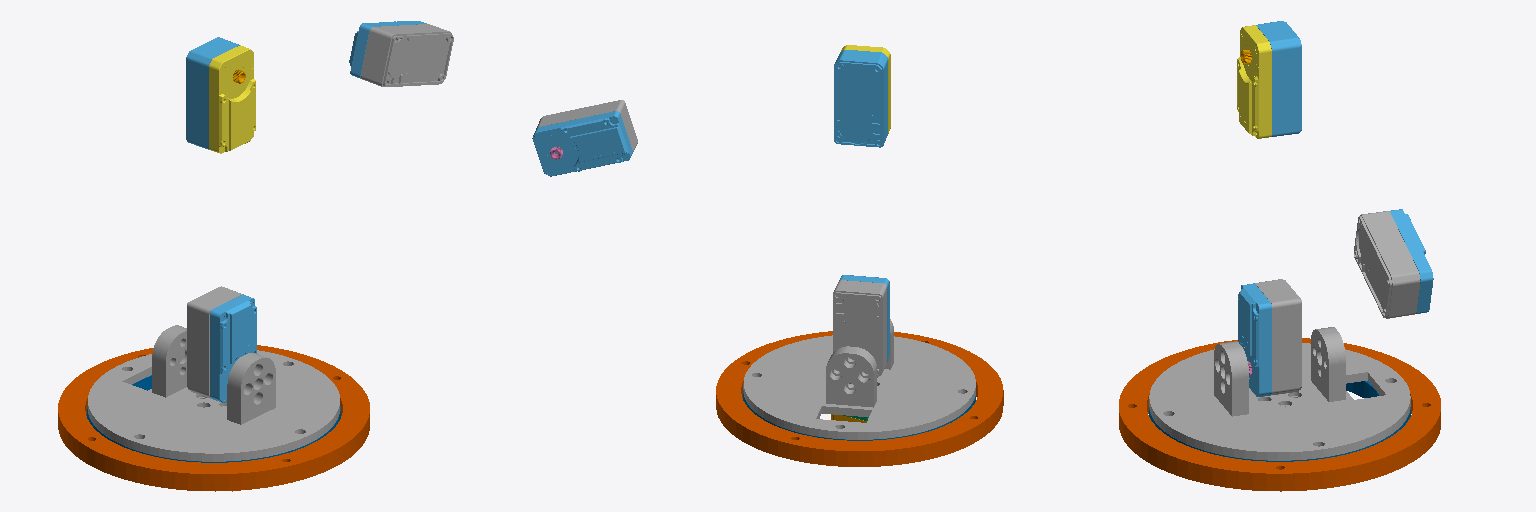
The robot description file, URDF, robot "onshape_robot":
<?xml version="1.0"?>
<robot name="onshape_robot">
  <link name="base_link"/>
  <link name="Part_1_3">
    <visual>
      <origin xyz="0 0 0" rpy="0 0 0"/>
      <geometry>
        <mesh filename="meshes/Part_1_3.stl"/>
      </geometry>
    </visual>
    <collision>
      <origin xyz="0 0 0" rpy="0 0 0"/>
      <geometry>
        <mesh filename="meshes/Part_1_3.stl"/>
      </geometry>
    </collision>
  </link>
  <joint name="Part_1_3_joint" type="fixed">
    <parent link="base_link"/>
    <child link="Part_1_3"/>
    <origin xyz="-0.050504 -0.01132 -0.124523" rpy="0 0 0.007469"/>
  </joint>
  <link name="Part_1_8">
    <visual>
      <origin xyz="0 0 0" rpy="0 0 0"/>
      <geometry>
        <mesh filename="meshes/Part_1_8.stl"/>
      </geometry>
    </visual>
    <collision>
      <origin xyz="0 0 0" rpy="0 0 0"/>
      <geometry>
        <mesh filename="meshes/Part_1_8.stl"/>
      </geometry>
    </collision>
  </link>
  <joint name="Part_1_8_joint" type="fixed">
    <parent link="base_link"/>
    <child link="Part_1_8"/>
    <origin xyz="-0.050498 -0.01207 -0.154023" rpy="0 0 0.007469"/>
  </joint>
  <link name="Part_1_1">
    <visual>
      <origin xyz="0 0 0" rpy="0 0 0"/>
      <geometry>
        <mesh filename="meshes/Part_1_1.stl"/>
      </geometry>
    </visual>
    <collision>
      <origin xyz="0 0 0" rpy="0 0 0"/>
      <geometry>
        <mesh filename="meshes/Part_1_1.stl"/>
      </geometry>
    </collision>
  </link>
  <joint name="Part_1_1_joint" type="fixed">
    <parent link="base_link"/>
    <child link="Part_1_1"/>
    <origin xyz="0.079209 0.061992 -0.0227" rpy="3.121406 0 -1.233812"/>
  </joint>
  <link name="PCB_CHAZUO_92_1">
    <visual>
      <origin xyz="0 0 0" rpy="0 0 0"/>
      <geometry>
        <mesh filename="meshes/PCB_CHAZUO_92_1.stl"/>
      </geometry>
    </visual>
    <collision>
      <origin xyz="0 0 0" rpy="0 0 0"/>
      <geometry>
        <mesh filename="meshes/PCB_CHAZUO_92_1.stl"/>
      </geometry>
    </collision>
  </link>
  <joint name="PCB_CHAZUO_92_1_joint" type="fixed">
    <parent link="base_link"/>
    <child link="PCB_CHAZUO_92_1"/>
    <origin xyz="-0.050308 -0.03757 -0.122423" rpy="1.570796 0 -1.563327"/>
  </joint>
  <link name="v2_1">
    <visual>
      <origin xyz="0 0 0" rpy="0 0 0"/>
      <geometry>
        <mesh filename="meshes/v2_1_2.stl"/>
      </geometry>
    </visual>
    <collision>
      <origin xyz="0 0 0" rpy="0 0 0"/>
      <geometry>
        <mesh filename="meshes/v2_1_2.stl"/>
      </geometry>
    </collision>
  </link>
  <joint name="v2_1_joint" type="fixed">
    <parent link="base_link"/>
    <child link="v2_1"/>
    <origin xyz="-0.047639 -0.002488 -0.140123" rpy="1.570796 0 -1.860757"/>
  </joint>
  <link name="v2_1_2">
    <visual>
      <origin xyz="0 0 0" rpy="0 0 0"/>
      <geometry>
        <mesh filename="meshes/v2_1.stl"/>
      </geometry>
    </visual>
    <collision>
      <origin xyz="0 0 0" rpy="0 0 0"/>
      <geometry>
        <mesh filename="meshes/v2_1.stl"/>
      </geometry>
    </collision>
  </link>
  <joint name="v2_1_2_joint" type="fixed">
    <parent link="base_link"/>
    <child link="v2_1_2"/>
    <origin xyz="-0.059879 -0.008606 -0.171873" rpy="-1.570796 0 -0.353725"/>
  </joint>
  <link name="GE_27_1">
    <visual>
      <origin xyz="0 0 0" rpy="0 0 0"/>
      <geometry>
        <mesh filename="meshes/GE_27_1.stl"/>
      </geometry>
    </visual>
    <collision>
      <origin xyz="0 0 0" rpy="0 0 0"/>
      <geometry>
        <mesh filename="meshes/GE_27_1.stl"/>
      </geometry>
    </collision>
  </link>
  <joint name="GE_27_1_joint" type="fixed">
    <parent link="base_link"/>
    <child link="GE_27_1"/>
    <origin xyz="-0.050498 -0.01207 -0.128423" rpy="3.141593 0 -1.563327"/>
  </joint>
  <link name="ZK_122_1">
    <visual>
      <origin xyz="0 0 0" rpy="0 0 0"/>
      <geometry>
        <mesh filename="meshes/ZK_122_1.stl"/>
      </geometry>
    </visual>
    <collision>
      <origin xyz="0 0 0" rpy="0 0 0"/>
      <geometry>
        <mesh filename="meshes/ZK_122_1.stl"/>
      </geometry>
    </collision>
  </link>
  <joint name="ZK_122_1_joint" type="fixed">
    <parent link="base_link"/>
    <child link="ZK_122_1"/>
    <origin xyz="-0.050308 -0.03757 -0.122423" rpy="1.570796 0 -1.563327"/>
  </joint>
  <link name="MOTOR_1723_3_1">
    <visual>
      <origin xyz="0 0 0" rpy="0 0 0"/>
      <geometry>
        <mesh filename="meshes/MOTOR_1723_3_1.stl"/>
      </geometry>
    </visual>
    <collision>
      <origin xyz="0 0 0" rpy="0 0 0"/>
      <geometry>
        <mesh filename="meshes/MOTOR_1723_3_1.stl"/>
      </geometry>
    </collision>
  </link>
  <joint name="MOTOR_1723_3_1_joint" type="fixed">
    <parent link="base_link"/>
    <child link="MOTOR_1723_3_1"/>
    <origin xyz="-0.049058 -0.03756 -0.145273" rpy="1.570796 0 0.007469"/>
  </joint>
  <link name="SG_ZIJI_15_1">
    <visual>
      <origin xyz="0 0 0" rpy="0 0 0"/>
      <geometry>
        <mesh filename="meshes/SG_ZIJI_15_1.stl"/>
      </geometry>
    </visual>
    <collision>
      <origin xyz="0 0 0" rpy="0 0 0"/>
      <geometry>
        <mesh filename="meshes/SG_ZIJI_15_1.stl"/>
      </geometry>
    </collision>
  </link>
  <joint name="SG_ZIJI_15_1_joint" type="fixed">
    <parent link="base_link"/>
    <child link="SG_ZIJI_15_1"/>
    <origin xyz="-0.050308 -0.03757 -0.122423" rpy="1.570796 0 -1.563327"/>
  </joint>
  <link name="XG_ZIJI_16_1">
    <visual>
      <origin xyz="0 0 0" rpy="0 0 0"/>
      <geometry>
        <mesh filename="meshes/XG_ZIJI_16_1.stl"/>
      </geometry>
    </visual>
    <collision>
      <origin xyz="0 0 0" rpy="0 0 0"/>
      <geometry>
        <mesh filename="meshes/XG_ZIJI_16_1.stl"/>
      </geometry>
    </collision>
  </link>
  <joint name="XG_ZIJI_16_1_joint" type="fixed">
    <parent link="base_link"/>
    <child link="XG_ZIJI_16_1"/>
    <origin xyz="-0.050308 -0.03757 -0.122423" rpy="1.570796 0 -1.563327"/>
  </joint>
  <link name="Part_2_2">
    <visual>
      <origin xyz="0 0 0" rpy="0 0 0"/>
      <geometry>
        <mesh filename="meshes/Part_2_2.stl"/>
      </geometry>
    </visual>
    <collision>
      <origin xyz="0 0 0" rpy="0 0 0"/>
      <geometry>
        <mesh filename="meshes/Part_2_2.stl"/>
      </geometry>
    </collision>
  </link>
  <joint name="Part_2_2_joint" type="fixed">
    <parent link="base_link"/>
    <child link="Part_2_2"/>
    <origin xyz="-0.050504 -0.01132 -0.121523" rpy="0 0 0.336985"/>
  </joint>
  <link name="Part_1_2">
    <visual>
      <origin xyz="0 0 0" rpy="0 0 0"/>
      <geometry>
        <mesh filename="meshes/Part_1_2_3.stl"/>
      </geometry>
    </visual>
    <collision>
      <origin xyz="0 0 0" rpy="0 0 0"/>
      <geometry>
        <mesh filename="meshes/Part_1_2_3.stl"/>
      </geometry>
    </collision>
  </link>
  <joint name="Part_1_2_joint" type="fixed">
    <parent link="base_link"/>
    <child link="Part_1_2"/>
    <origin xyz="-0.050504 -0.01132 -0.121523" rpy="0 0 0.007469"/>
  </joint>
  <link name="Part_1_2_2">
    <visual>
      <origin xyz="0 0 0" rpy="0 0 0"/>
      <geometry>
        <mesh filename="meshes/Part_1_2_2.stl"/>
      </geometry>
    </visual>
    <collision>
      <origin xyz="0 0 0" rpy="0 0 0"/>
      <geometry>
        <mesh filename="meshes/Part_1_2_2.stl"/>
      </geometry>
    </collision>
  </link>
  <joint name="Part_1_2_2_joint" type="fixed">
    <parent link="base_link"/>
    <child link="Part_1_2_2"/>
    <origin xyz="0.08769 0.037784 -0.0227" rpy="-0.020186 0 -1.233812"/>
  </joint>
  <link name="Part_1_1_2">
    <visual>
      <origin xyz="0 0 0" rpy="0 0 0"/>
      <geometry>
        <mesh filename="meshes/Part_1_1_3.stl"/>
      </geometry>
    </visual>
    <collision>
      <origin xyz="0 0 0" rpy="0 0 0"/>
      <geometry>
        <mesh filename="meshes/Part_1_1_3.stl"/>
      </geometry>
    </collision>
  </link>
  <joint name="Part_1_1_2_joint" type="fixed">
    <parent link="base_link"/>
    <child link="Part_1_1_2"/>
    <origin xyz="-0.050504 -0.01132 -0.113023" rpy="0 0 1.907781"/>
  </joint>
  <link name="Part_1_3_2">
    <visual>
      <origin xyz="0 0 0" rpy="0 0 0"/>
      <geometry>
        <mesh filename="meshes/Part_1_2.stl"/>
      </geometry>
    </visual>
    <collision>
      <origin xyz="0 0 0" rpy="0 0 0"/>
      <geometry>
        <mesh filename="meshes/Part_1_2.stl"/>
      </geometry>
    </collision>
  </link>
  <joint name="Part_1_3_2_joint" type="fixed">
    <parent link="base_link"/>
    <child link="Part_1_3_2"/>
    <origin xyz="-0.050955 -0.010789 -0.056023" rpy="3.141593 0 -1.233812"/>
  </joint>
  <link name="Part_1_1_3">
    <visual>
      <origin xyz="0 0 0" rpy="0 0 0"/>
      <geometry>
        <mesh filename="meshes/Part_1_1_2.stl"/>
      </geometry>
    </visual>
    <collision>
      <origin xyz="0 0 0" rpy="0 0 0"/>
      <geometry>
        <mesh filename="meshes/Part_1_1_2.stl"/>
      </geometry>
    </collision>
  </link>
  <joint name="Part_1_1_3_joint" type="fixed">
    <parent link="base_link"/>
    <child link="Part_1_1_3"/>
    <origin xyz="-0.03727 -0.005995 -0.018523" rpy="0 0 -1.233812"/>
  </joint>
  <link name="Part_1_2_3">
    <visual>
      <origin xyz="0 0 0" rpy="0 0 0"/>
      <geometry>
        <mesh filename="meshes/Part_1_2.stl"/>
      </geometry>
    </visual>
    <collision>
      <origin xyz="0 0 0" rpy="0 0 0"/>
      <geometry>
        <mesh filename="meshes/Part_1_2.stl"/>
      </geometry>
    </collision>
  </link>
  <joint name="Part_1_2_3_joint" type="fixed">
    <parent link="base_link"/>
    <child link="Part_1_2_3"/>
    <origin xyz="-0.050955 -0.010789 0.018977" rpy="0 0 -1.233812"/>
  </joint>
  <link name="PCB_CHAZUO_92_1_2">
    <visual>
      <origin xyz="0 0 0" rpy="0 0 0"/>
      <geometry>
        <mesh filename="meshes/PCB_CHAZUO_92_1.stl"/>
      </geometry>
    </visual>
    <collision>
      <origin xyz="0 0 0" rpy="0 0 0"/>
      <geometry>
        <mesh filename="meshes/PCB_CHAZUO_92_1.stl"/>
      </geometry>
    </collision>
  </link>
  <joint name="PCB_CHAZUO_92_1_2_joint" type="fixed">
    <parent link="base_link"/>
    <child link="PCB_CHAZUO_92_1_2"/>
    <origin xyz="0.062297 0.038636 0.016935" rpy="3.141593 -0.304321 -2.804608"/>
  </joint>
  <link name="v2_1_3">
    <visual>
      <origin xyz="0 0 0" rpy="0 0 0"/>
      <geometry>
        <mesh filename="meshes/v2_1_2.stl"/>
      </geometry>
    </visual>
    <collision>
      <origin xyz="0 0 0" rpy="0 0 0"/>
      <geometry>
        <mesh filename="meshes/v2_1_2.stl"/>
      </geometry>
    </collision>
  </link>
  <joint name="v2_1_3_joint" type="fixed">
    <parent link="base_link"/>
    <child link="v2_1_3"/>
    <origin xyz="0.100545 0.033282 0.009092" rpy="3.141593 -0.020186 -2.804608"/>
  </joint>
  <link name="v2_1_4">
    <visual>
      <origin xyz="0 0 0" rpy="0 0 0"/>
      <geometry>
        <mesh filename="meshes/v2_1.stl"/>
      </geometry>
    </visual>
    <collision>
      <origin xyz="0 0 0" rpy="0 0 0"/>
      <geometry>
        <mesh filename="meshes/v2_1.stl"/>
      </geometry>
    </collision>
  </link>
  <joint name="v2_1_4_joint" type="fixed">
    <parent link="base_link"/>
    <child link="v2_1_4"/>
    <origin xyz="0.092467 -0.003191 0.011784" rpy="-3.141593 0.251669 0.336985"/>
  </joint>
  <link name="GE_27_1_2">
    <visual>
      <origin xyz="0 0 0" rpy="0 0 0"/>
      <geometry>
        <mesh filename="meshes/GE_27_1.stl"/>
      </geometry>
    </visual>
    <collision>
      <origin xyz="0 0 0" rpy="0 0 0"/>
      <geometry>
        <mesh filename="meshes/GE_27_1.stl"/>
      </geometry>
    </collision>
  </link>
  <joint name="GE_27_1_2_joint" type="fixed">
    <parent link="base_link"/>
    <child link="GE_27_1_2"/>
    <origin xyz="0.087241 0.041018 0.009294" rpy="-1.570796 -0.304321 -2.804608"/>
  </joint>
  <link name="ZK_122_1_2">
    <visual>
      <origin xyz="0 0 0" rpy="0 0 0"/>
      <geometry>
        <mesh filename="meshes/ZK_122_1.stl"/>
      </geometry>
    </visual>
    <collision>
      <origin xyz="0 0 0" rpy="0 0 0"/>
      <geometry>
        <mesh filename="meshes/ZK_122_1.stl"/>
      </geometry>
    </collision>
  </link>
  <joint name="ZK_122_1_2_joint" type="fixed">
    <parent link="base_link"/>
    <child link="ZK_122_1_2"/>
    <origin xyz="0.062297 0.038636 0.016935" rpy="3.141593 -0.304321 -2.804608"/>
  </joint>
  <link name="MOTOR_1723_3_1_2">
    <visual>
      <origin xyz="0 0 0" rpy="0 0 0"/>
      <geometry>
        <mesh filename="meshes/MOTOR_1723_3_1.stl"/>
      </geometry>
    </visual>
    <collision>
      <origin xyz="0 0 0" rpy="0 0 0"/>
      <geometry>
        <mesh filename="meshes/MOTOR_1723_3_1.stl"/>
      </geometry>
    </collision>
  </link>
  <joint name="MOTOR_1723_3_1_2_joint" type="fixed">
    <parent link="base_link"/>
    <child link="MOTOR_1723_3_1_2"/>
    <origin xyz="0.070206 0.017195 0.018127" rpy="0 -1.266475 0.336985"/>
  </joint>
  <link name="SG_ZIJI_15_1_2">
    <visual>
      <origin xyz="0 0 0" rpy="0 0 0"/>
      <geometry>
        <mesh filename="meshes/SG_ZIJI_15_1.stl"/>
      </geometry>
    </visual>
    <collision>
      <origin xyz="0 0 0" rpy="0 0 0"/>
      <geometry>
        <mesh filename="meshes/SG_ZIJI_15_1.stl"/>
      </geometry>
    </collision>
  </link>
  <joint name="SG_ZIJI_15_1_2_joint" type="fixed">
    <parent link="base_link"/>
    <child link="SG_ZIJI_15_1_2"/>
    <origin xyz="0.062297 0.038636 0.016935" rpy="3.141593 -0.304321 -2.804608"/>
  </joint>
  <link name="XG_ZIJI_16_1_2">
    <visual>
      <origin xyz="0 0 0" rpy="0 0 0"/>
      <geometry>
        <mesh filename="meshes/XG_ZIJI_16_1.stl"/>
      </geometry>
    </visual>
    <collision>
      <origin xyz="0 0 0" rpy="0 0 0"/>
      <geometry>
        <mesh filename="meshes/XG_ZIJI_16_1.stl"/>
      </geometry>
    </collision>
  </link>
  <joint name="XG_ZIJI_16_1_2_joint" type="fixed">
    <parent link="base_link"/>
    <child link="XG_ZIJI_16_1_2"/>
    <origin xyz="0.062297 0.038636 0.016935" rpy="3.141593 -0.304321 -2.804608"/>
  </joint>
  <link name="PCB_CHAZUO_92_1_3">
    <visual>
      <origin xyz="0 0 0" rpy="0 0 0"/>
      <geometry>
        <mesh filename="meshes/PCB_CHAZUO_92_1.stl"/>
      </geometry>
    </visual>
    <collision>
      <origin xyz="0 0 0" rpy="0 0 0"/>
      <geometry>
        <mesh filename="meshes/PCB_CHAZUO_92_1.stl"/>
      </geometry>
    </collision>
  </link>
  <joint name="PCB_CHAZUO_92_1_3_joint" type="fixed">
    <parent link="base_link"/>
    <child link="PCB_CHAZUO_92_1_3"/>
    <origin xyz="-0.047544 -0.019767 -0.067523" rpy="-2.804608 -1.570796 0"/>
  </joint>
  <link name="v2_1_5">
    <visual>
      <origin xyz="0 0 0" rpy="0 0 0"/>
      <geometry>
        <mesh filename="meshes/v2_1_2.stl"/>
      </geometry>
    </visual>
    <collision>
      <origin xyz="0 0 0" rpy="0 0 0"/>
      <geometry>
        <mesh filename="meshes/v2_1_2.stl"/>
      </geometry>
    </collision>
  </link>
  <joint name="v2_1_5_joint" type="fixed">
    <parent link="base_link"/>
    <child link="v2_1_5"/>
    <origin xyz="-0.043959 0.000244 -0.093023" rpy="0 0 -2.804608"/>
  </joint>
  <link name="v2_1_6">
    <visual>
      <origin xyz="0 0 0" rpy="0 0 0"/>
      <geometry>
        <mesh filename="meshes/v2_1.stl"/>
      </geometry>
    </visual>
    <collision>
      <origin xyz="0 0 0" rpy="0 0 0"/>
      <geometry>
        <mesh filename="meshes/v2_1.stl"/>
      </geometry>
    </collision>
  </link>
  <joint name="v2_1_6_joint" type="fixed">
    <parent link="base_link"/>
    <child link="v2_1_6"/>
    <origin xyz="-0.073286 0.023612 -0.092034" rpy="0 0.098974 0.336985"/>
  </joint>
  <link name="GE_27_1_3">
    <visual>
      <origin xyz="0 0 0" rpy="0 0 0"/>
      <geometry>
        <mesh filename="meshes/GE_27_1.stl"/>
      </geometry>
    </visual>
    <collision>
      <origin xyz="0 0 0" rpy="0 0 0"/>
      <geometry>
        <mesh filename="meshes/GE_27_1.stl"/>
      </geometry>
    </collision>
  </link>
  <joint name="GE_27_1_3_joint" type="fixed">
    <parent link="base_link"/>
    <child link="GE_27_1_3"/>
    <origin xyz="-0.049528 -0.014104 -0.093023" rpy="-1.233812 -1.570796 0"/>
  </joint>
  <link name="ZK_122_1_3">
    <visual>
      <origin xyz="0 0 0" rpy="0 0 0"/>
      <geometry>
        <mesh filename="meshes/ZK_122_1.stl"/>
      </geometry>
    </visual>
    <collision>
      <origin xyz="0 0 0" rpy="0 0 0"/>
      <geometry>
        <mesh filename="meshes/ZK_122_1.stl"/>
      </geometry>
    </collision>
  </link>
  <joint name="ZK_122_1_3_joint" type="fixed">
    <parent link="base_link"/>
    <child link="ZK_122_1_3"/>
    <origin xyz="-0.047544 -0.019767 -0.067523" rpy="-2.804608 -1.570796 0"/>
  </joint>
  <link name="MOTOR_1723_3_1_3">
    <visual>
      <origin xyz="0 0 0" rpy="0 0 0"/>
      <geometry>
        <mesh filename="meshes/MOTOR_1723_3_1.stl"/>
      </geometry>
    </visual>
    <collision>
      <origin xyz="0 0 0" rpy="0 0 0"/>
      <geometry>
        <mesh filename="meshes/MOTOR_1723_3_1.stl"/>
      </geometry>
    </collision>
  </link>
  <joint name="MOTOR_1723_3_1_3_joint" type="fixed">
    <parent link="base_link"/>
    <child link="MOTOR_1723_3_1_3"/>
    <origin xyz="-0.056279 0.001385 -0.067523" rpy="0 0 -2.804608"/>
  </joint>
  <link name="SG_ZIJI_15_1_3">
    <visual>
      <origin xyz="0 0 0" rpy="0 0 0"/>
      <geometry>
        <mesh filename="meshes/SG_ZIJI_15_1.stl"/>
      </geometry>
    </visual>
    <collision>
      <origin xyz="0 0 0" rpy="0 0 0"/>
      <geometry>
        <mesh filename="meshes/SG_ZIJI_15_1.stl"/>
      </geometry>
    </collision>
  </link>
  <joint name="SG_ZIJI_15_1_3_joint" type="fixed">
    <parent link="base_link"/>
    <child link="SG_ZIJI_15_1_3"/>
    <origin xyz="-0.047544 -0.019767 -0.067523" rpy="-2.804608 -1.570796 0"/>
  </joint>
  <link name="XG_ZIJI_16_1_3">
    <visual>
      <origin xyz="0 0 0" rpy="0 0 0"/>
      <geometry>
        <mesh filename="meshes/XG_ZIJI_16_1.stl"/>
      </geometry>
    </visual>
    <collision>
      <origin xyz="0 0 0" rpy="0 0 0"/>
      <geometry>
        <mesh filename="meshes/XG_ZIJI_16_1.stl"/>
      </geometry>
    </collision>
  </link>
  <joint name="XG_ZIJI_16_1_3_joint" type="fixed">
    <parent link="base_link"/>
    <child link="XG_ZIJI_16_1_3"/>
    <origin xyz="-0.047544 -0.019767 -0.067523" rpy="-2.804608 -1.570796 0"/>
  </joint>
  <link name="Part_1_1_4">
    <visual>
      <origin xyz="0 0 0" rpy="0 0 0"/>
      <geometry>
        <mesh filename="meshes/Part_1_1_4.stl"/>
      </geometry>
    </visual>
    <collision>
      <origin xyz="0 0 0" rpy="0 0 0"/>
      <geometry>
        <mesh filename="meshes/Part_1_1_4.stl"/>
      </geometry>
    </collision>
  </link>
  <joint name="Part_1_1_4_joint" type="fixed">
    <parent link="base_link"/>
    <child link="Part_1_1_4"/>
    <origin xyz="0.019574 0.013496 0.017273" rpy="0.304321 0 1.907781"/>
  </joint>
  <link name="Part_1_2_4">
    <visual>
      <origin xyz="0 0 0" rpy="0 0 0"/>
      <geometry>
        <mesh filename="meshes/Part_1_2.stl"/>
      </geometry>
    </visual>
    <collision>
      <origin xyz="0 0 0" rpy="0 0 0"/>
      <geometry>
        <mesh filename="meshes/Part_1_2.stl"/>
      </geometry>
    </collision>
  </link>
  <joint name="Part_1_2_4_joint" type="fixed">
    <parent link="base_link"/>
    <child link="Part_1_2_4"/>
    <origin xyz="0.055188 0.025973 0.020619" rpy="1.875118 0 1.907781"/>
  </joint>
  <link name="PCB_CHAZUO_92_1_4">
    <visual>
      <origin xyz="0 0 0" rpy="0 0 0"/>
      <geometry>
        <mesh filename="meshes/PCB_CHAZUO_92_1.stl"/>
      </geometry>
    </visual>
    <collision>
      <origin xyz="0 0 0" rpy="0 0 0"/>
      <geometry>
        <mesh filename="meshes/PCB_CHAZUO_92_1.stl"/>
      </geometry>
    </collision>
  </link>
  <joint name="PCB_CHAZUO_92_1_4_joint" type="fixed">
    <parent link="base_link"/>
    <child link="PCB_CHAZUO_92_1_4"/>
    <origin xyz="-0.048016 -0.019932 0.030477" rpy="2.804608 1.570796 0"/>
  </joint>
  <link name="v2_1_7">
    <visual>
      <origin xyz="0 0 0" rpy="0 0 0"/>
      <geometry>
        <mesh filename="meshes/v2_1_2.stl"/>
      </geometry>
    </visual>
    <collision>
      <origin xyz="0 0 0" rpy="0 0 0"/>
      <geometry>
        <mesh filename="meshes/v2_1_2.stl"/>
      </geometry>
    </collision>
  </link>
  <joint name="v2_1_7_joint" type="fixed">
    <parent link="base_link"/>
    <child link="v2_1_7"/>
    <origin xyz="-0.044865 -0.000073 0.052981" rpy="0 -0.304321 -2.804608"/>
  </joint>
  <link name="v2_1_8">
    <visual>
      <origin xyz="0 0 0" rpy="0 0 0"/>
      <geometry>
        <mesh filename="meshes/v2_1.stl"/>
      </geometry>
    </visual>
    <collision>
      <origin xyz="0 0 0" rpy="0 0 0"/>
      <geometry>
        <mesh filename="meshes/v2_1.stl"/>
      </geometry>
    </collision>
  </link>
  <joint name="v2_1_8_joint" type="fixed">
    <parent link="base_link"/>
    <child link="v2_1_8"/>
    <origin xyz="-0.073762 0.023445 0.056925" rpy="0 0.09487 0.336985"/>
  </joint>
  <link name="GE_27_1_4">
    <visual>
      <origin xyz="0 0 0" rpy="0 0 0"/>
      <geometry>
        <mesh filename="meshes/GE_27_1.stl"/>
      </geometry>
    </visual>
    <collision>
      <origin xyz="0 0 0" rpy="0 0 0"/>
      <geometry>
        <mesh filename="meshes/GE_27_1.stl"/>
      </geometry>
    </collision>
  </link>
  <joint name="GE_27_1_4_joint" type="fixed">
    <parent link="base_link"/>
    <child link="GE_27_1_4"/>
    <origin xyz="-0.05 -0.01427 0.055977" rpy="-1.907781 1.570796 0"/>
  </joint>
  <link name="ZK_122_1_4">
    <visual>
      <origin xyz="0 0 0" rpy="0 0 0"/>
      <geometry>
        <mesh filename="meshes/ZK_122_1.stl"/>
      </geometry>
    </visual>
    <collision>
      <origin xyz="0 0 0" rpy="0 0 0"/>
      <geometry>
        <mesh filename="meshes/ZK_122_1.stl"/>
      </geometry>
    </collision>
  </link>
  <joint name="ZK_122_1_4_joint" type="fixed">
    <parent link="base_link"/>
    <child link="ZK_122_1_4"/>
    <origin xyz="-0.048016 -0.019932 0.030477" rpy="2.804608 1.570796 0"/>
  </joint>
  <link name="MOTOR_1723_3_1_4">
    <visual>
      <origin xyz="0 0 0" rpy="0 0 0"/>
      <geometry>
        <mesh filename="meshes/MOTOR_1723_3_1.stl"/>
      </geometry>
    </visual>
    <collision>
      <origin xyz="0 0 0" rpy="0 0 0"/>
      <geometry>
        <mesh filename="meshes/MOTOR_1723_3_1.stl"/>
      </geometry>
    </collision>
  </link>
  <joint name="MOTOR_1723_3_1_4_joint" type="fixed">
    <parent link="base_link"/>
    <child link="MOTOR_1723_3_1_4"/>
    <origin xyz="-0.054392 0.002046 0.030477" rpy="-3.141593 0 0.336985"/>
  </joint>
  <link name="SG_ZIJI_15_1_4">
    <visual>
      <origin xyz="0 0 0" rpy="0 0 0"/>
      <geometry>
        <mesh filename="meshes/SG_ZIJI_15_1.stl"/>
      </geometry>
    </visual>
    <collision>
      <origin xyz="0 0 0" rpy="0 0 0"/>
      <geometry>
        <mesh filename="meshes/SG_ZIJI_15_1.stl"/>
      </geometry>
    </collision>
  </link>
  <joint name="SG_ZIJI_15_1_4_joint" type="fixed">
    <parent link="base_link"/>
    <child link="SG_ZIJI_15_1_4"/>
    <origin xyz="-0.048016 -0.019932 0.030477" rpy="2.804608 1.570796 0"/>
  </joint>
  <link name="XG_ZIJI_16_1_4">
    <visual>
      <origin xyz="0 0 0" rpy="0 0 0"/>
      <geometry>
        <mesh filename="meshes/XG_ZIJI_16_1.stl"/>
      </geometry>
    </visual>
    <collision>
      <origin xyz="0 0 0" rpy="0 0 0"/>
      <geometry>
        <mesh filename="meshes/XG_ZIJI_16_1.stl"/>
      </geometry>
    </collision>
  </link>
  <joint name="XG_ZIJI_16_1_4_joint" type="fixed">
    <parent link="base_link"/>
    <child link="XG_ZIJI_16_1_4"/>
    <origin xyz="-0.048016 -0.019932 0.030477" rpy="2.804608 1.570796 0"/>
  </joint>
</robot>

--- Render facts (derived) ---
3 views of the same robot in one strip: view 1: azimuth 30°, elevation 25°; view 2: azimuth 150°, elevation 25°; view 3: azimuth 270°, elevation 25° (orthographic).
Robot: onshape_robot — 45 links, 44 joints (44 fixed); root link base_link; default pose: all joints at 0.
Links seen in each view (by area): view 1: Part_1_1_2, Part_1_2, ZK_122_1_2, SG_ZIJI_15_1_4, SG_ZIJI_15_1_3, ZK_122_1_3, ZK_122_1_4, SG_ZIJI_15_1_2, Part_2_2; view 2: Part_1_1_2, Part_1_2, ZK_122_1_4, SG_ZIJI_15_1_2, ZK_122_1_3, ZK_122_1_2; view 3: Part_1_1_2, Part_1_2, ZK_122_1_2, ZK_122_1_4, ZK_122_1_3, SG_ZIJI_15_1_4, SG_ZIJI_15_1_3, SG_ZIJI_15_1_2, Part_2_2.
Boxes of the visible links, x1=… form: Part_1_1_2: x1=88, y1=325, x2=339, y2=461; Part_1_2: x1=58, y1=345, x2=369, y2=491; ZK_122_1_2: x1=360, y1=24, x2=453, y2=86; SG_ZIJI_15_1_4: x1=209, y1=45, x2=255, y2=153; SG_ZIJI_15_1_3: x1=210, y1=295, x2=256, y2=402; ZK_122_1_3: x1=187, y1=286, x2=243, y2=398; ZK_122_1_4: x1=186, y1=37, x2=239, y2=149; SG_ZIJI_15_1_2: x1=349, y1=21, x2=426, y2=78; Part_2_2: x1=87, y1=375, x2=340, y2=462; Part_1_1_2: x1=743, y1=319, x2=975, y2=439; Part_1_2: x1=716, y1=331, x2=1003, y2=466; ZK_122_1_4: x1=834, y1=50, x2=887, y2=147; SG_ZIJI_15_1_2: x1=532, y1=111, x2=632, y2=176; ZK_122_1_3: x1=833, y1=280, x2=886, y2=377; ZK_122_1_2: x1=536, y1=100, x2=637, y2=151; Part_1_1_2: x1=1149, y1=327, x2=1410, y2=460; Part_1_2: x1=1119, y1=338, x2=1440, y2=491; ZK_122_1_2: x1=1354, y1=211, x2=1420, y2=318; ZK_122_1_4: x1=1256, y1=21, x2=1301, y2=136; ZK_122_1_3: x1=1255, y1=279, x2=1301, y2=394; SG_ZIJI_15_1_4: x1=1237, y1=25, x2=1271, y2=138; SG_ZIJI_15_1_3: x1=1238, y1=283, x2=1271, y2=396; SG_ZIJI_15_1_2: x1=1390, y1=209, x2=1433, y2=313; Part_2_2: x1=1149, y1=381, x2=1410, y2=461.
Bounding box of the posed robot: 0.2221 × 0.14 × 0.2036 m (x, y, z).
Meshes: 18 distinct files referenced, 15 mesh visuals loaded (6 binary STL); not drawn: 29 (reference not matched to a file when rendering).